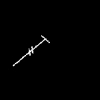treble_crochet: (13, 36, 49, 65)
